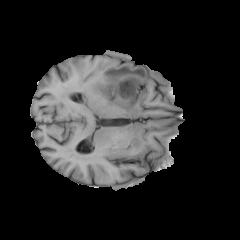glioma: (98, 65, 147, 106)
